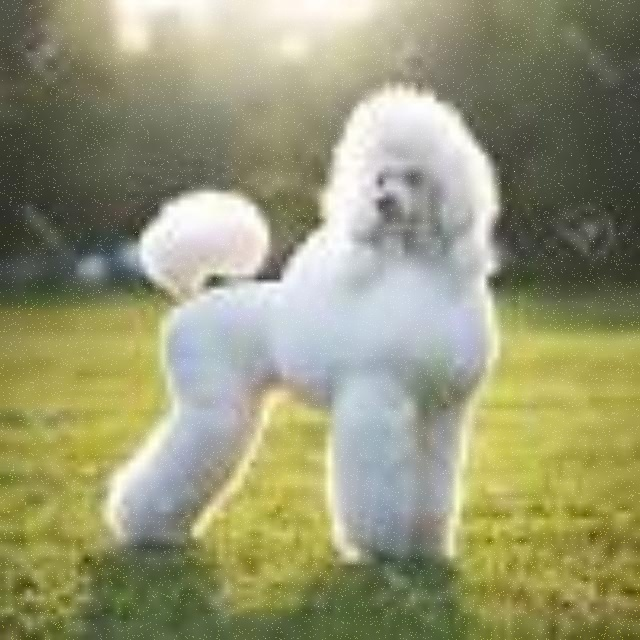dog: (75, 65, 543, 570)
